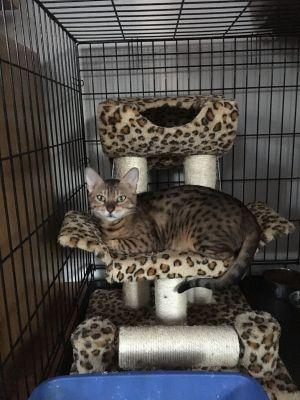bengal: (76, 160, 145, 228)
